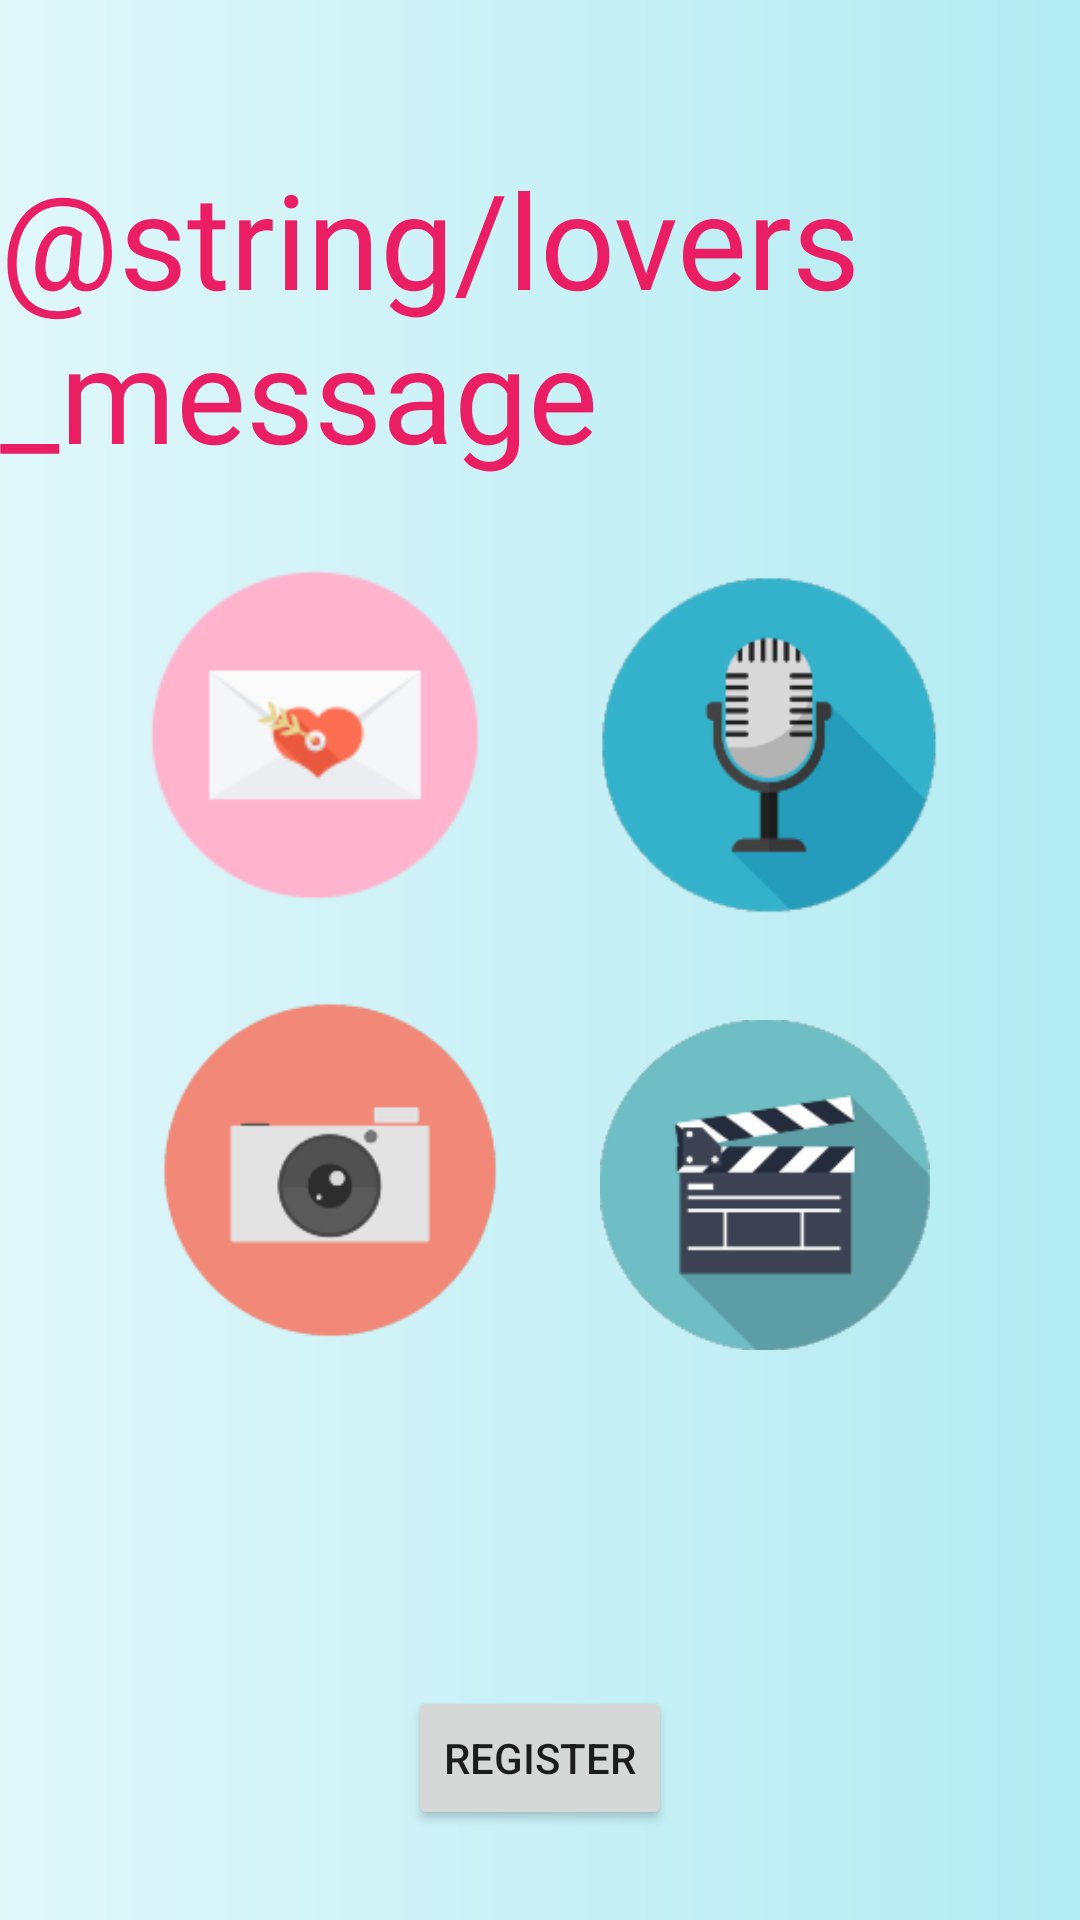

Icons on this 1080×1920 Android screen, each with the point to tap as (x=x, y=y):
audio: (x=769, y=745)
photo: (x=330, y=1170)
video: (x=765, y=1185)
